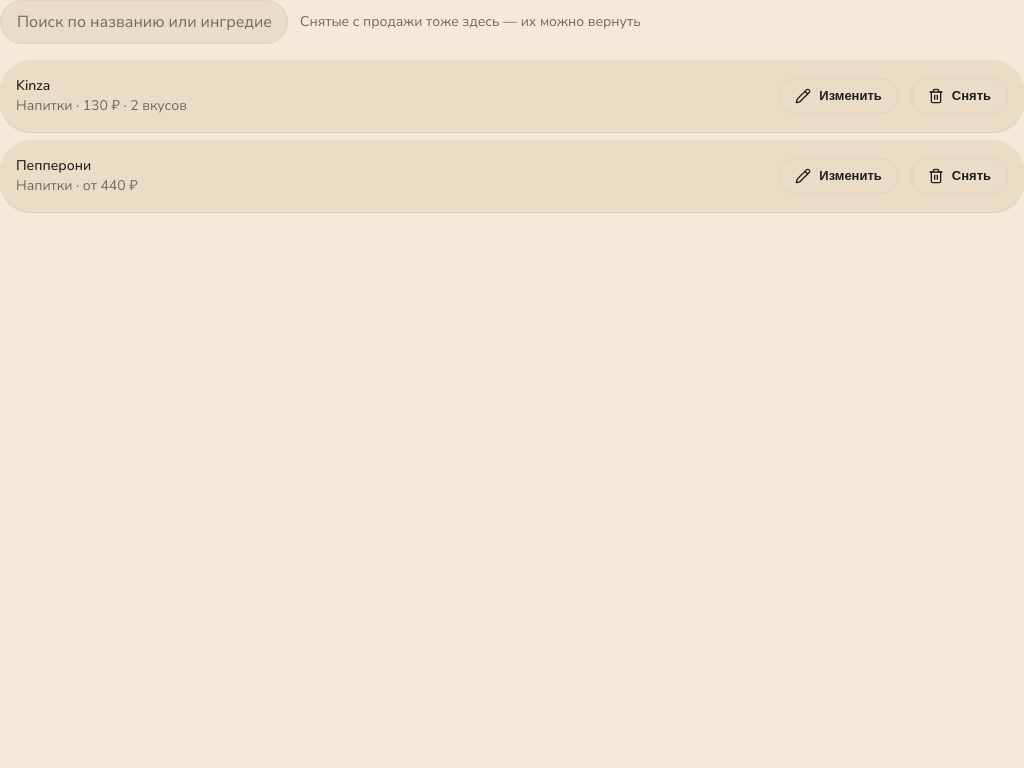
AdminProductsPage — editing flavours › seeds the form with the flavours the product already has
Click the button "Изменить" in the row of "· 2 вкусов" at [839, 96], box [778, 78, 899, 114]
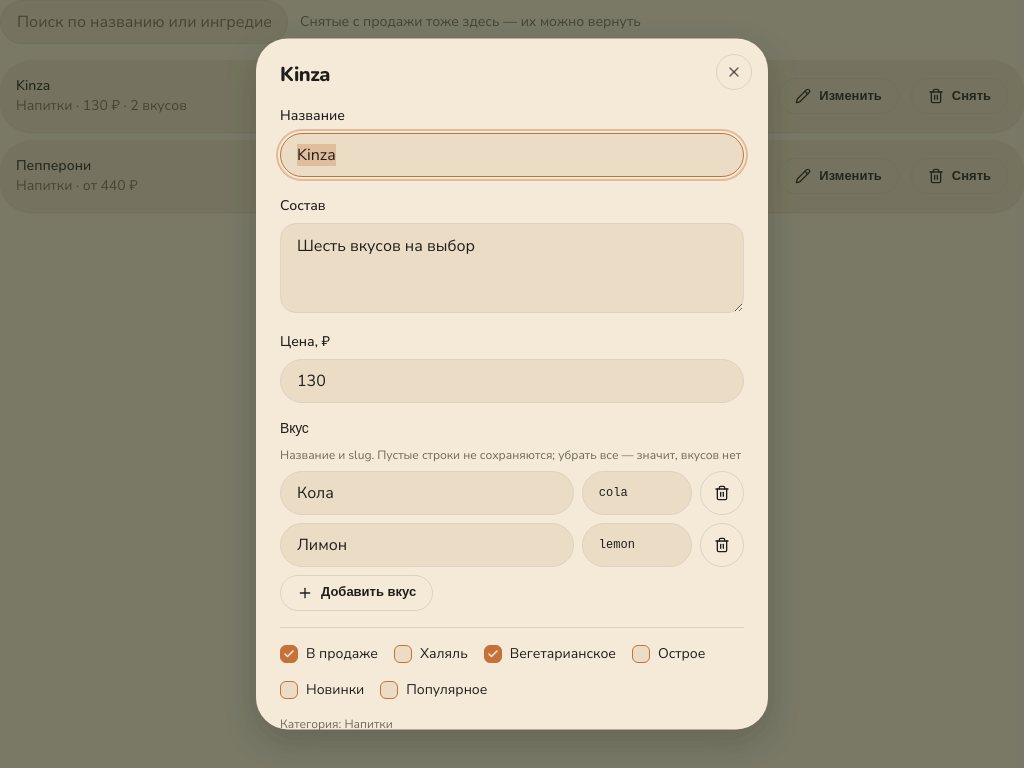
Expected: the field labelled "Название" is shown, [280, 133, 744, 177]
Expected: the field named "Название вкуса 1" holds "Кола", [280, 471, 574, 515]
Expected: the field named "Название вкуса 2" holds "Лимон", [280, 523, 574, 567]
